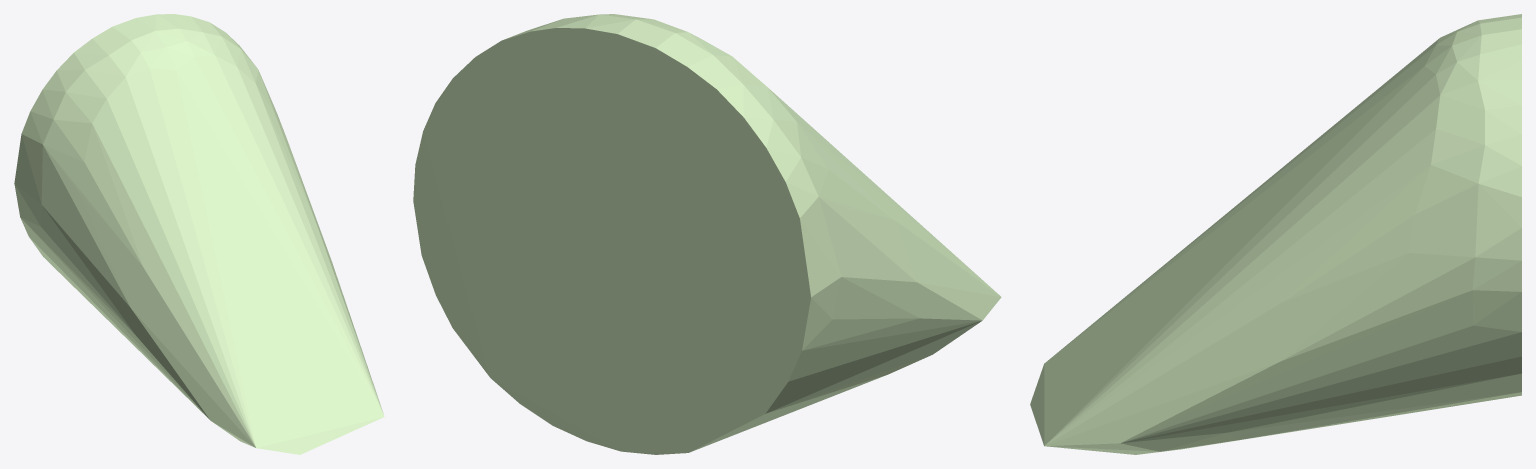
The model's file is kuka_URDF_link2_resp_coll_1.dae.
3 views of the same model, side by side, from view 1: azimuth 30°, elevation 25°; view 2: azimuth 150°, elevation 25°; view 3: azimuth 270°, elevation 25° (orthographic). The views are drawn at different scales.
Parts seen in each view (by area): view 1: Node_0000020FCC58CF90; view 2: Node_0000020FCC58CF90; view 3: Node_0000020FCC58CF90.
Boxes of the visible parts, <box> form: Node_0000020FCC58CF90: <box>14,14,384,454</box>; Node_0000020FCC58CF90: <box>413,14,1001,454</box>; Node_0000020FCC58CF90: <box>1030,14,1521,454</box>.
Bounding box in the file's own units: 0.1711 × 0.2013 × 0.2206.
